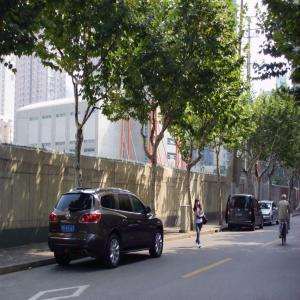Vehicle-registration-plate: (63, 224, 75, 232), (236, 214, 243, 218)
